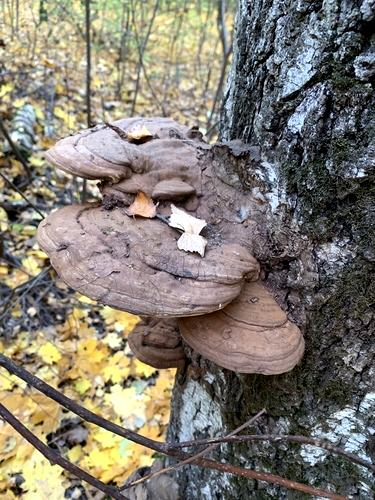Ganoderma - Fruit Body: (36, 201, 257, 314), (48, 112, 204, 195), (178, 316, 308, 374), (131, 315, 176, 367)
